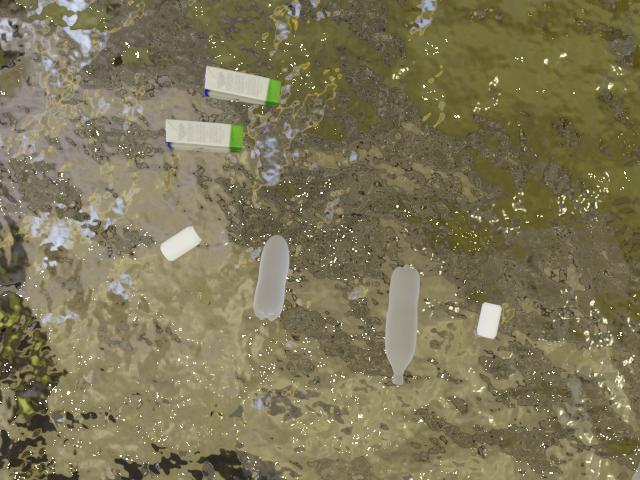Metal: (149, 198, 210, 280), (465, 302, 518, 359)
Plastic: (381, 257, 423, 396), (245, 237, 293, 324)
Trash: (147, 107, 251, 169), (180, 57, 294, 106)
